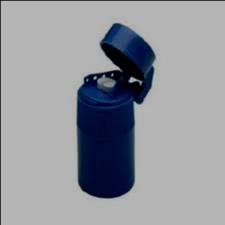Plastic: (74, 17, 155, 198)
